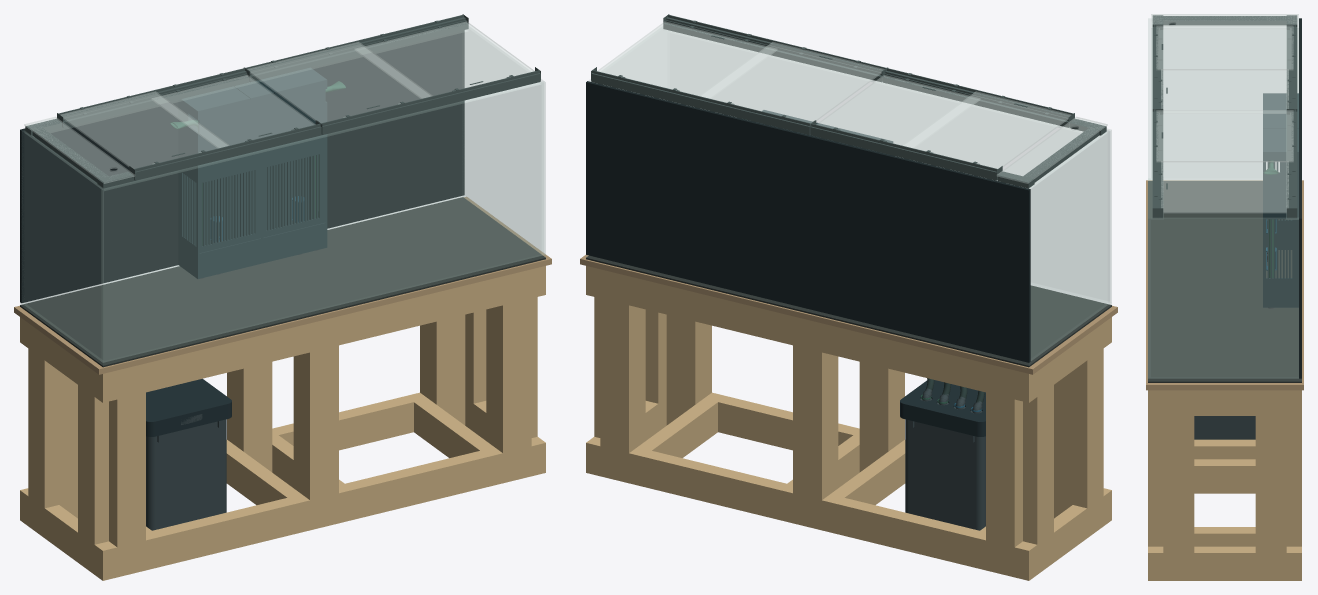
The model's file is aquarium.glb.
The picture shows the model from 3 angles, left to right: view 1: azimuth 30°, elevation 25°; view 2: azimuth 150°, elevation 25°; view 3: azimuth 270°, elevation 25°; orthographic projection. The views are drawn at different scales.
Visible parts, largest first — view 1: Timber frame member (×21), Front glass, Rear glass / black film, Support mat, Acrylic cover panel (×5), Screened housing panel (×7), Left glass, Cover support / guide (×6), Hypermax LINK reference (×2), Right glass, OSB top; view 2: Timber frame member (×21), Rear glass / black film, Acrylic cover panel (×5), Left glass, Front glass, Cover support / guide (×5), Hypermax LINK reference (×2), Support mat, OSB top; view 3: Acrylic cover panel (×5), Timber frame member (×13), Support mat, Right glass, Cover support / guide (×17), Screened housing panel (×5), OSB top, Hypermax LINK reference, Front glass, Rear glass / black film, Return riser.
Boxes of the visible parts, left/top/right/bottom form: Timber frame member (×21): left=20, top=266, right=545, bottom=580; Front glass: left=101, top=81, right=545, bottom=362; Rear glass / black film: left=20, top=30, right=464, bottom=303; Support mat: left=20, top=197, right=545, bottom=367; Acrylic cover panel (×5): left=24, top=21, right=534, bottom=183; Screened housing panel (×7): left=178, top=68, right=327, bottom=278; Left glass: left=22, top=131, right=103, bottom=360; Cover support / guide (×6): left=32, top=14, right=540, bottom=190; Hypermax LINK reference (×2): left=146, top=378, right=231, bottom=530; Right glass: left=464, top=79, right=543, bottom=253; OSB top: left=14, top=196, right=551, bottom=374; Timber frame member (×21): left=586, top=266, right=1111, bottom=580; Rear glass / black film: left=586, top=81, right=1030, bottom=362; Acrylic cover panel (×5): left=597, top=21, right=1107, bottom=183; Left glass: left=1029, top=130, right=1109, bottom=360; Front glass: left=816, top=81, right=1111, bottom=302; Cover support / guide (×5): left=591, top=14, right=1099, bottom=179; Hypermax LINK reference (×2): left=900, top=380, right=985, bottom=530; Support mat: left=586, top=255, right=1111, bottom=367; OSB top: left=580, top=255, right=1117, bottom=374; Acrylic cover panel (×5): left=1151, top=14, right=1298, bottom=213; Timber frame member (×13): left=1148, top=390, right=1301, bottom=580; Support mat: left=1148, top=181, right=1301, bottom=382; Right glass: left=1151, top=218, right=1298, bottom=378; Cover support / guide (×17): left=1151, top=16, right=1298, bottom=219; Screened housing panel (×5): left=1263, top=93, right=1298, bottom=307; OSB top: left=1146, top=180, right=1303, bottom=390; Hypermax LINK reference: left=1194, top=416, right=1255, bottom=439; Front glass: left=1148, top=18, right=1150, bottom=378; Rear glass / black film: left=1299, top=18, right=1301, bottom=378; Return riser: left=1269, top=219, right=1273, bottom=277.
Bounding box in the file's own units: 1.89 × 1.6 × 0.615.
